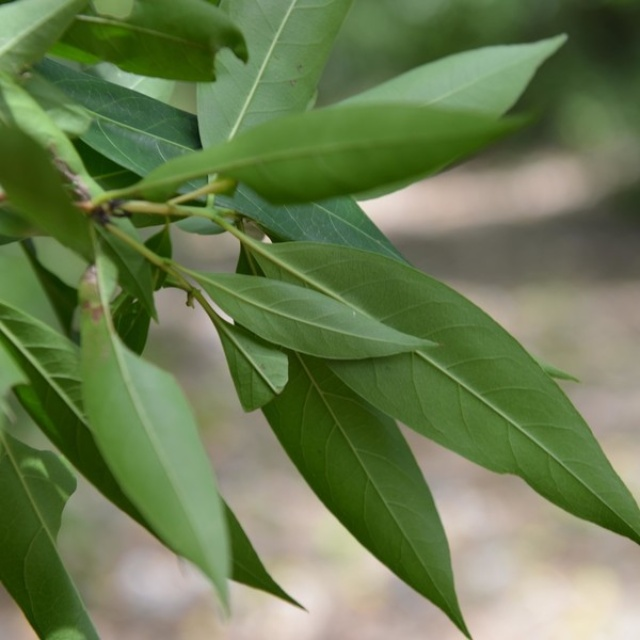obstacle: (41, 49, 587, 551)
